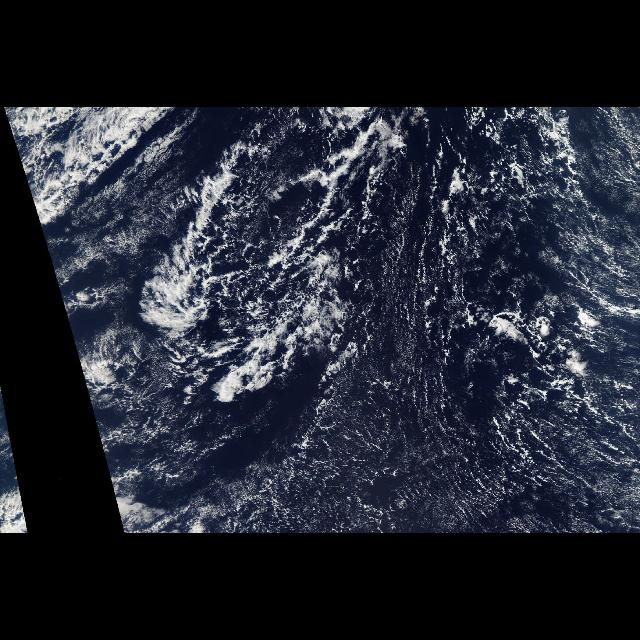Fish: (151, 107, 403, 409)
Gravel: (280, 159, 638, 531)
Sugar: (274, 174, 640, 534)
